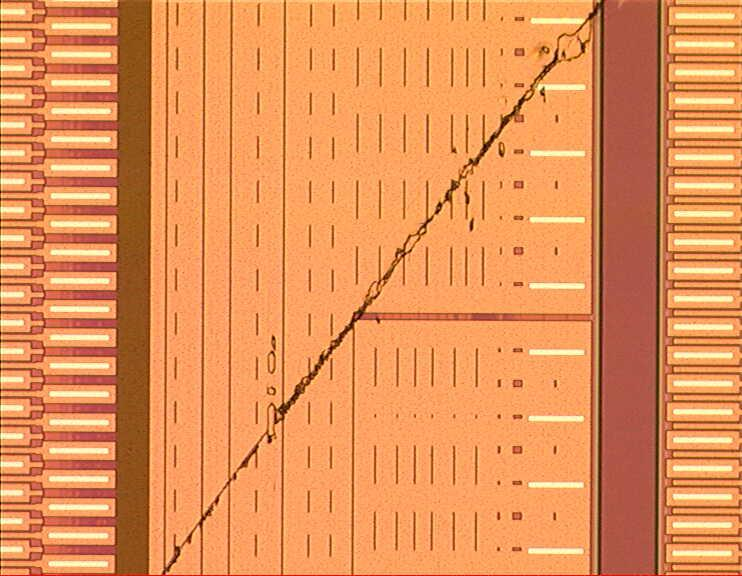SCRATCH: (153, 1, 616, 576)
